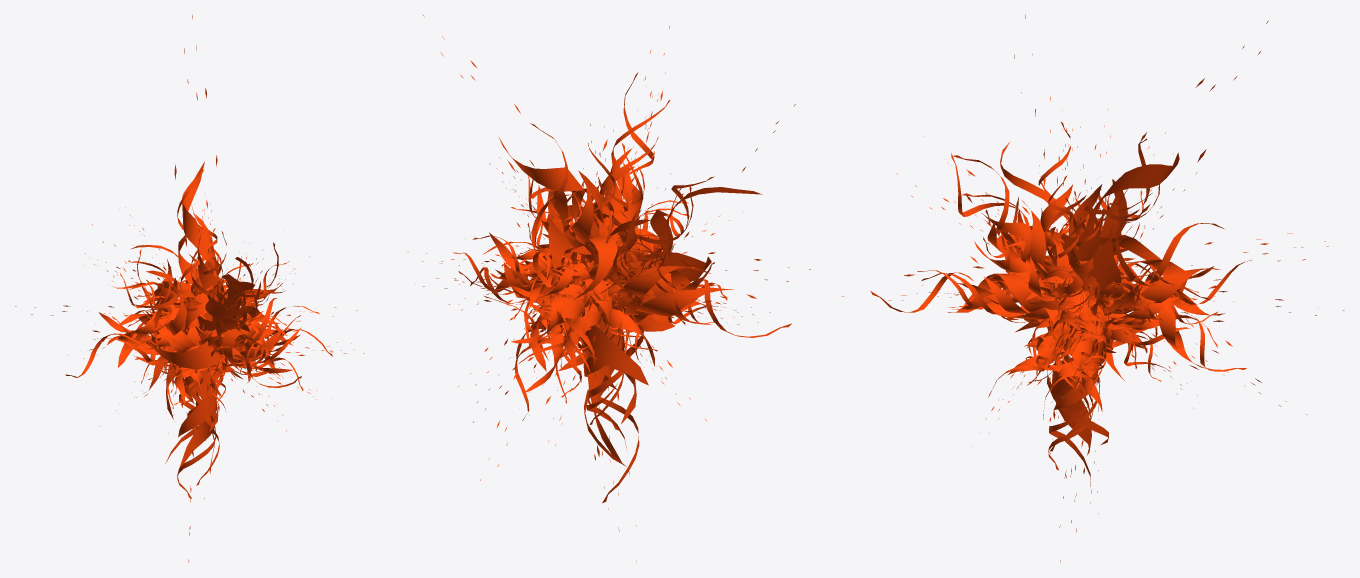
File: fireball_01.obj
The picture shows the model from 3 angles, left to right: view 1: azimuth 30°, elevation 25°; view 2: azimuth 150°, elevation 25°; view 3: azimuth 270°, elevation 25°; orthographic projection. The views are drawn at different scales.
Parts seen in each view (by area): view 1: Fireball; view 2: Fireball; view 3: Fireball.
Boxes of the visible parts, x1,y1,x2,y2 form: Fireball: (15, 15, 364, 562); Fireball: (407, 14, 810, 561); Fireball: (841, 15, 1344, 561).
Bounding box in the file's own units: 1.71 × 2.29 × 1.76.
